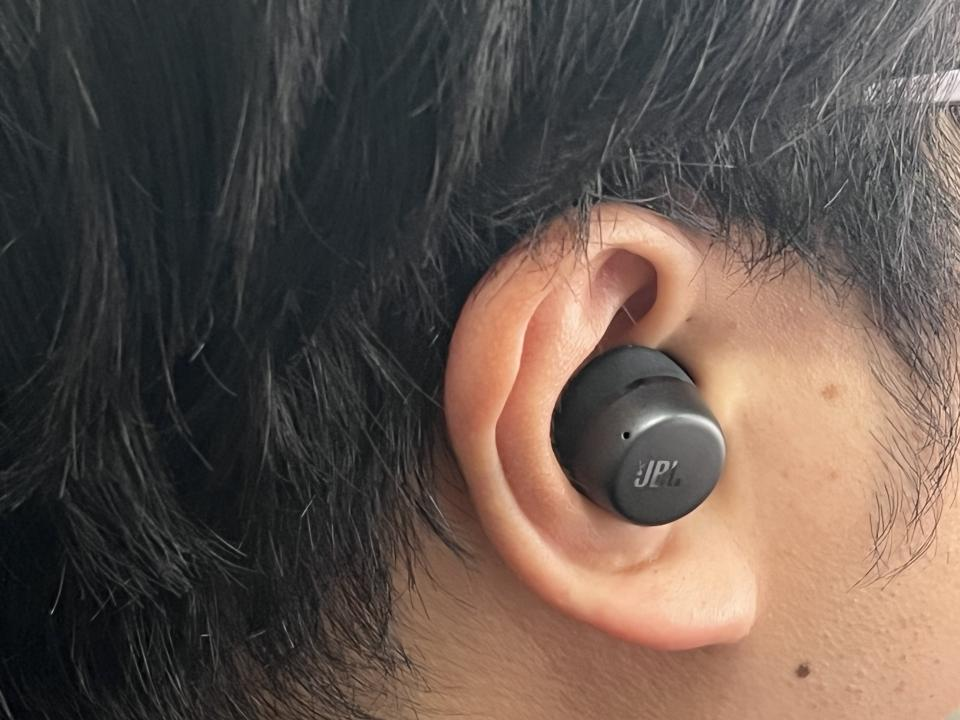earphone: (549, 333, 746, 536)
